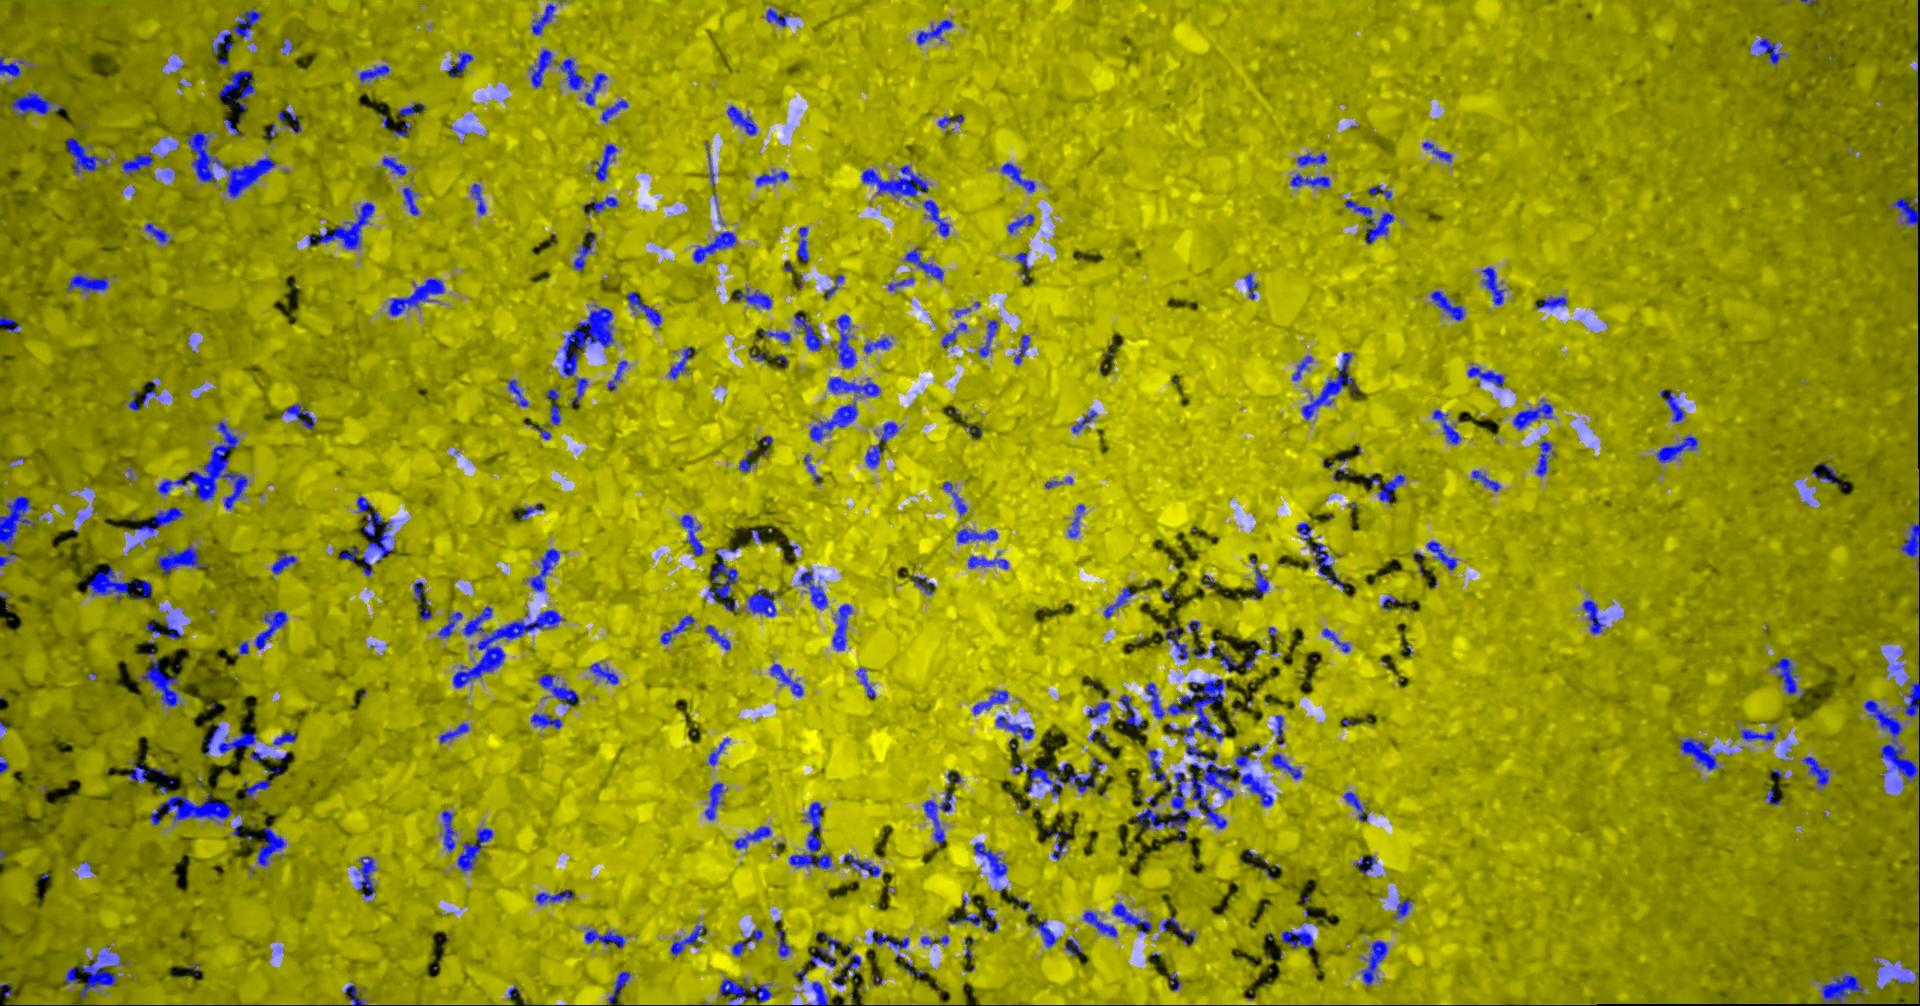ant: (1133, 771, 1190, 842), (1302, 352, 1357, 419), (307, 201, 375, 249), (1297, 522, 1343, 589), (356, 495, 392, 575), (789, 801, 830, 868), (0, 495, 34, 567), (211, 8, 262, 55), (86, 564, 151, 600), (1343, 199, 1394, 244), (861, 165, 928, 197), (389, 277, 444, 315), (159, 793, 231, 822), (1011, 761, 1068, 796), (705, 547, 737, 610), (809, 403, 856, 441), (140, 659, 178, 706), (79, 950, 116, 998), (923, 790, 952, 843), (133, 506, 183, 536), (865, 420, 897, 467), (456, 828, 491, 870), (66, 137, 109, 171), (1820, 970, 1863, 1005), (156, 545, 203, 575), (719, 978, 772, 1005), (218, 70, 254, 109), (692, 231, 735, 263), (527, 547, 559, 591), (1164, 625, 1204, 659), (1067, 757, 1103, 793), (904, 246, 943, 279), (254, 610, 287, 649), (625, 291, 660, 326), (973, 842, 1007, 879), (1679, 737, 1717, 770), (1512, 398, 1552, 429), (1111, 902, 1150, 934), (9, 91, 52, 119), (1365, 473, 1404, 503), (538, 674, 578, 705), (1656, 434, 1697, 462), (257, 826, 284, 866), (1361, 940, 1387, 984), (794, 312, 823, 351), (836, 314, 856, 368), (832, 945, 860, 984), (770, 663, 803, 696), (392, 102, 424, 136), (799, 570, 827, 608), (1103, 586, 1137, 617), (1430, 290, 1464, 320), (670, 925, 705, 955), (827, 377, 880, 396), (1161, 916, 1195, 945), (1432, 409, 1460, 445), (1001, 163, 1034, 192), (660, 615, 695, 643), (832, 603, 852, 650), (916, 19, 952, 44), (923, 199, 949, 236), (1771, 657, 1797, 694), (573, 230, 596, 271), (681, 514, 703, 555), (1481, 265, 1505, 304), (1426, 540, 1457, 569), (996, 715, 1032, 739), (791, 981, 828, 1005), (1801, 756, 1829, 788), (1083, 909, 1116, 936), (279, 403, 314, 428), (1147, 749, 1170, 788), (971, 690, 1007, 714), (726, 105, 756, 135), (731, 929, 762, 956), (731, 287, 771, 309), (1754, 37, 1785, 64), (559, 57, 585, 89), (528, 50, 551, 86), (594, 144, 617, 180), (733, 826, 770, 848), (668, 345, 693, 379), (942, 481, 966, 516), (354, 856, 375, 897), (843, 854, 879, 876), (1270, 753, 1302, 779), (217, 732, 257, 752), (1119, 694, 1143, 727), (1467, 366, 1503, 387), (1891, 197, 1919, 225), (1900, 522, 1919, 563), (531, 3, 555, 34), (127, 762, 166, 781), (584, 929, 623, 948), (1248, 558, 1269, 594), (747, 589, 775, 616), (1030, 920, 1057, 948), (607, 970, 629, 1005), (1660, 389, 1683, 420), (968, 551, 1008, 569), (584, 72, 606, 105), (119, 152, 152, 174), (1582, 600, 1604, 633), (1343, 791, 1368, 821), (978, 319, 997, 356), (703, 782, 723, 819), (446, 52, 472, 77), (1535, 439, 1554, 475), (703, 624, 730, 649), (1145, 682, 1164, 718), (66, 274, 107, 291), (1046, 828, 1068, 859), (871, 930, 908, 948), (437, 611, 462, 636), (1322, 627, 1349, 652), (1470, 470, 1500, 492), (589, 662, 618, 683), (439, 721, 469, 743), (607, 359, 627, 390), (941, 323, 966, 347), (601, 99, 627, 122), (583, 196, 617, 213), (1281, 929, 1313, 948), (1422, 141, 1451, 161), (1067, 504, 1084, 537), (270, 551, 296, 574), (856, 667, 875, 697), (535, 889, 573, 904), (1289, 173, 1330, 187), (507, 379, 527, 406), (956, 528, 997, 542), (441, 810, 455, 851), (1070, 410, 1096, 432), (143, 222, 170, 243), (1903, 681, 1919, 716), (709, 738, 729, 765), (244, 780, 270, 800), (803, 453, 820, 483), (1291, 354, 1312, 380), (756, 170, 789, 185), (1007, 213, 1032, 232), (530, 713, 561, 728), (810, 948, 836, 967), (359, 65, 389, 81), (403, 185, 419, 215), (546, 387, 559, 424), (0, 56, 23, 76), (1013, 334, 1029, 365), (1817, 462, 1837, 485), (203, 724, 218, 754), (863, 337, 891, 353), (824, 274, 843, 298), (910, 575, 935, 594), (1352, 855, 1377, 874), (381, 158, 406, 175), (817, 931, 839, 950), (764, 8, 789, 25), (471, 183, 485, 213), (759, 330, 790, 344), (570, 377, 587, 403), (344, 984, 364, 1005), (1297, 152, 1326, 166), (776, 927, 790, 956), (1738, 729, 1774, 741), (1086, 702, 1110, 719), (796, 226, 808, 260), (947, 913, 982, 925), (521, 503, 543, 520), (413, 580, 428, 605), (1534, 296, 1566, 307), (1368, 184, 1390, 199), (739, 450, 754, 473), (272, 730, 295, 746), (1220, 652, 1238, 671), (937, 114, 963, 127), (1244, 273, 1257, 298), (888, 277, 913, 290), (1044, 476, 1072, 488), (278, 107, 296, 124), (0, 315, 19, 332), (902, 962, 923, 976), (1064, 937, 1081, 955), (1185, 744, 1208, 757), (1396, 898, 1411, 917), (1015, 251, 1030, 269), (63, 967, 79, 984), (1275, 715, 1284, 744), (535, 423, 550, 439), (165, 622, 182, 638), (340, 547, 358, 561), (145, 619, 160, 634), (1765, 789, 1780, 804), (749, 351, 771, 359), (1170, 972, 1180, 989), (1382, 596, 1396, 608), (149, 809, 160, 824), (418, 607, 430, 620)
